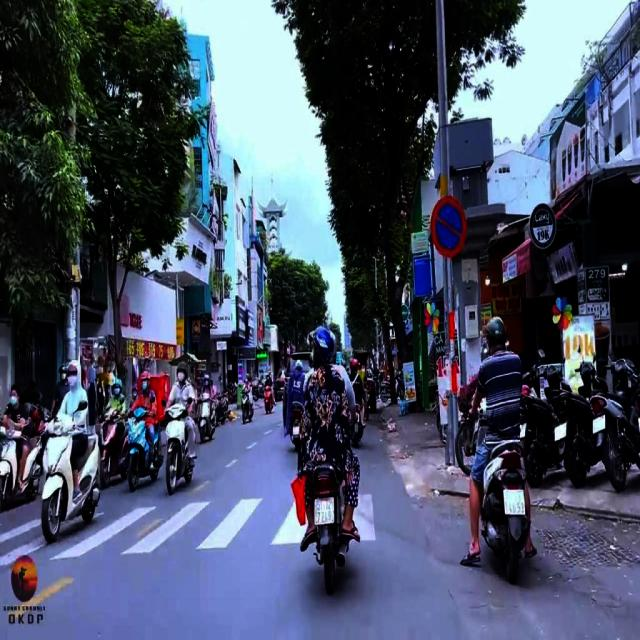cam_do_xe: (431, 195, 467, 258)
